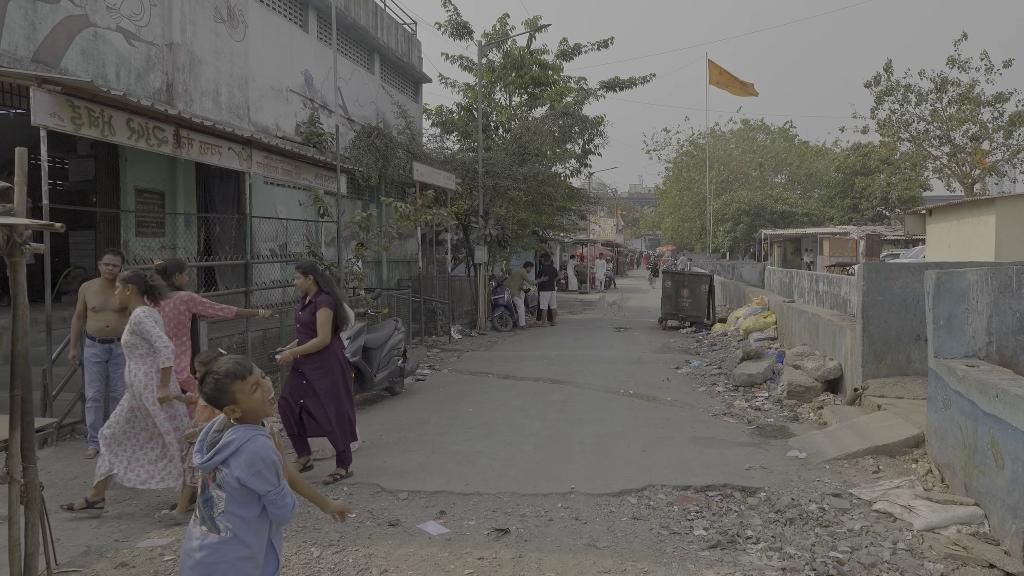dustbin: (656, 269, 716, 332)
garbage: (414, 517, 451, 537), (784, 447, 806, 461), (751, 390, 770, 398)
